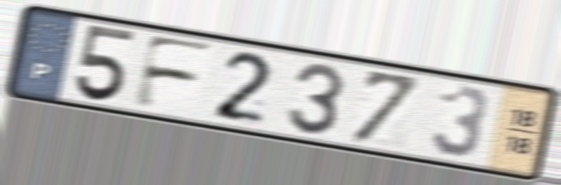2: (213, 50, 275, 129)
3: (284, 61, 348, 137), (431, 84, 488, 161)
5: (71, 22, 139, 105)
7: (353, 67, 426, 148)
F: (129, 32, 220, 112)
